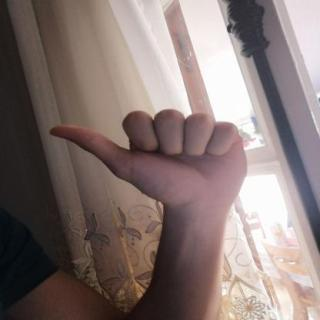DAD: (35, 102, 260, 216)
